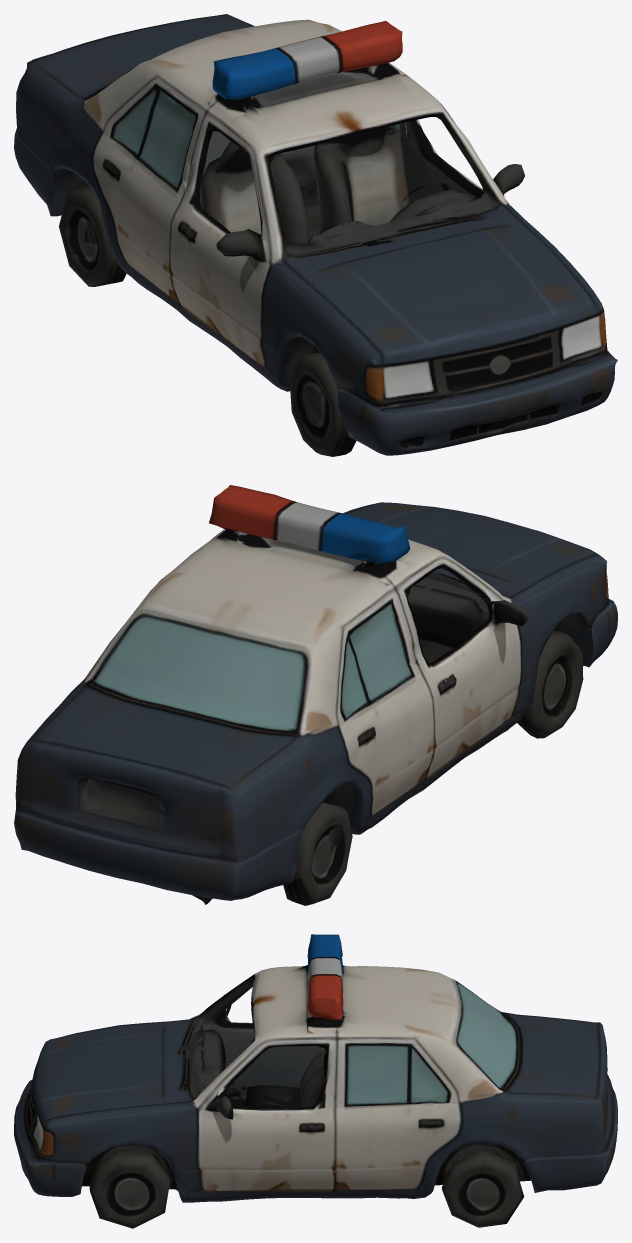
File: SM_Vehicle_PoliceCar_01.fbx
The picture shows the model from 3 angles, top to bottom: view 1: azimuth 30°, elevation 25°; view 2: azimuth 150°, elevation 25°; view 3: azimuth 270°, elevation 25°; orthographic projection. The views are drawn at different scales.
Parts seen in each view (by area): view 1: SM_Vehicle_PoliceCar_01; view 2: SM_Vehicle_PoliceCar_01; view 3: SM_Vehicle_PoliceCar_01.
Boxes of the visible parts, x1,y1,x2,y2 form: SM_Vehicle_PoliceCar_01: [14, 14, 617, 456]; SM_Vehicle_PoliceCar_01: [14, 485, 617, 905]; SM_Vehicle_PoliceCar_01: [14, 934, 617, 1228].
Bounding box in the file's own units: 0.452 × 0.3995 × 0.9975.
Materials: 1 (1 with a texture image).
